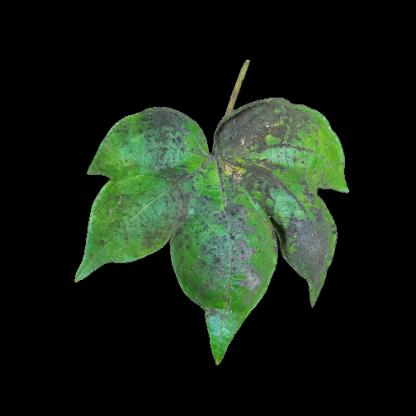curl_stage1: (312, 129, 337, 181)
sooty: (199, 196, 261, 278), (145, 164, 197, 247), (220, 103, 304, 149), (136, 110, 192, 166), (93, 191, 145, 246), (227, 150, 283, 194), (295, 216, 335, 273), (271, 180, 321, 220), (209, 276, 253, 318)
